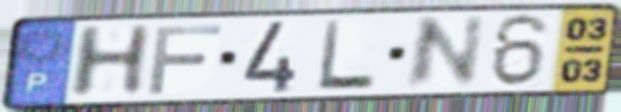4: (241, 19, 300, 96)
6: (488, 12, 552, 89)
F: (145, 22, 226, 96)
H: (64, 22, 157, 101)
L: (314, 18, 379, 93)
N: (400, 13, 489, 93)
